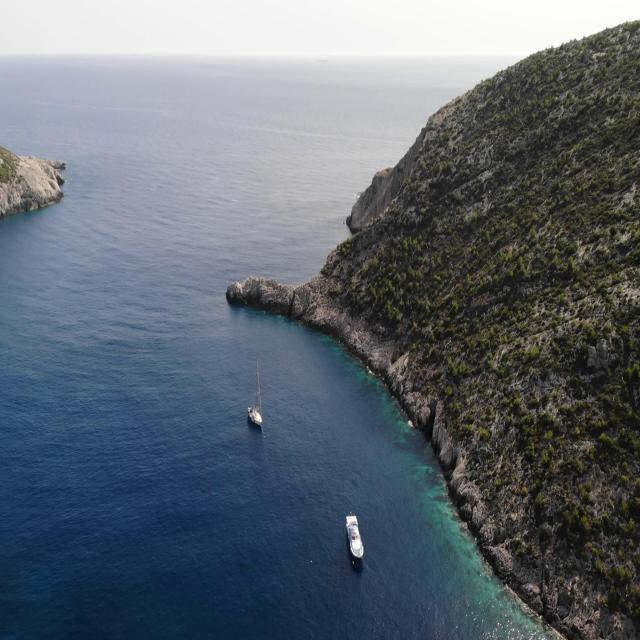boat: (344, 513, 364, 560)
sailboat: (246, 358, 264, 432)
